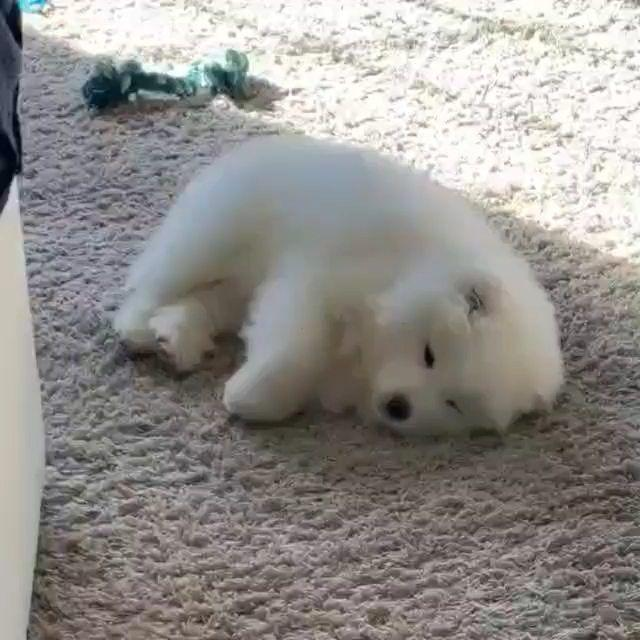puppy-dog: (115, 137, 566, 441)
